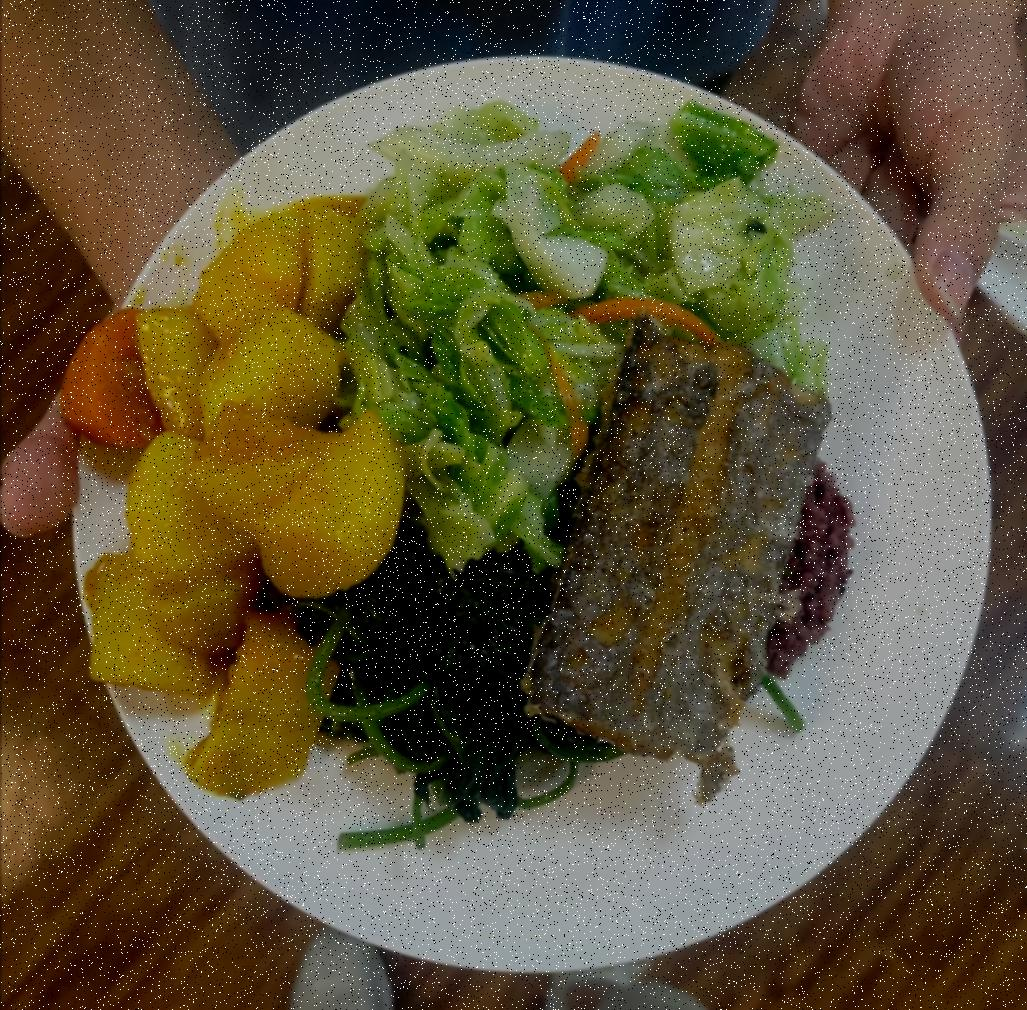pan fried fish fillet: (516, 311, 844, 776)
plate: (42, 41, 1012, 992)
purple rice: (755, 458, 872, 681)
side dish: (48, 190, 406, 804), (331, 116, 809, 570), (301, 527, 596, 833)
